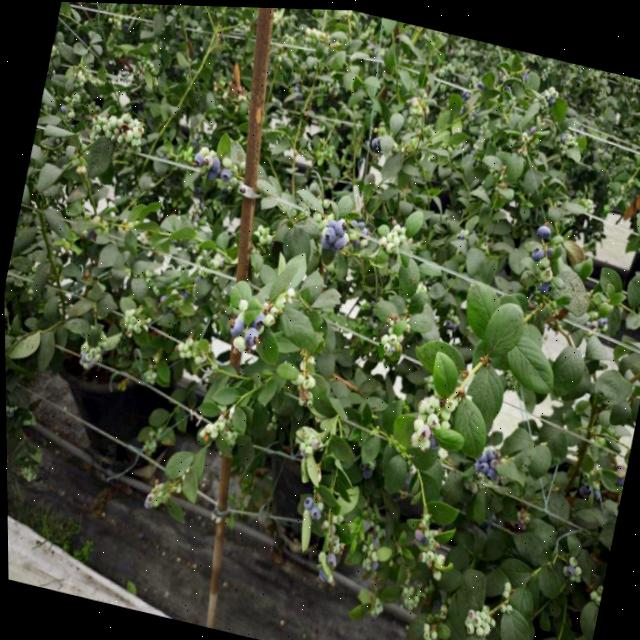RipeBlueBerry: (240, 324, 260, 348), (227, 315, 245, 337), (248, 308, 265, 330), (534, 217, 552, 237), (322, 223, 337, 244), (332, 215, 347, 236), (538, 275, 552, 294), (191, 150, 205, 168), (529, 242, 544, 258), (208, 154, 221, 171), (300, 493, 313, 509), (219, 166, 232, 181), (205, 167, 218, 182), (483, 464, 495, 478), (333, 235, 345, 249), (324, 549, 335, 564), (427, 433, 438, 448), (484, 444, 496, 457), (476, 458, 488, 471), (307, 504, 318, 518), (370, 134, 381, 148), (476, 449, 487, 462), (563, 561, 574, 574), (595, 314, 606, 325)
Semi-RipeBlueBerry: (411, 525, 422, 540)
UnripeBlueBerry: (229, 333, 247, 355), (414, 420, 430, 440), (120, 127, 134, 144), (538, 264, 552, 279), (424, 409, 437, 425), (415, 396, 427, 412), (202, 152, 214, 168), (130, 125, 143, 139), (410, 415, 422, 430), (426, 392, 439, 405), (442, 396, 454, 410), (469, 611, 480, 625), (438, 406, 450, 418), (433, 551, 444, 564), (566, 552, 577, 564), (376, 234, 386, 247), (571, 562, 581, 574), (423, 547, 433, 558)
